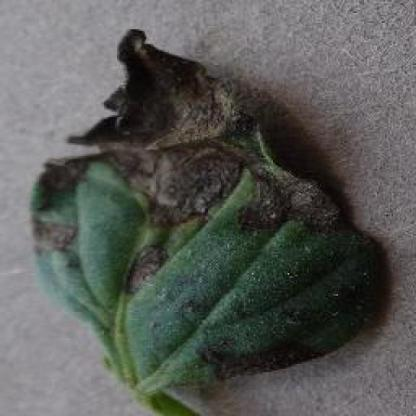Tomato_Blight: (30, 29, 368, 384)
